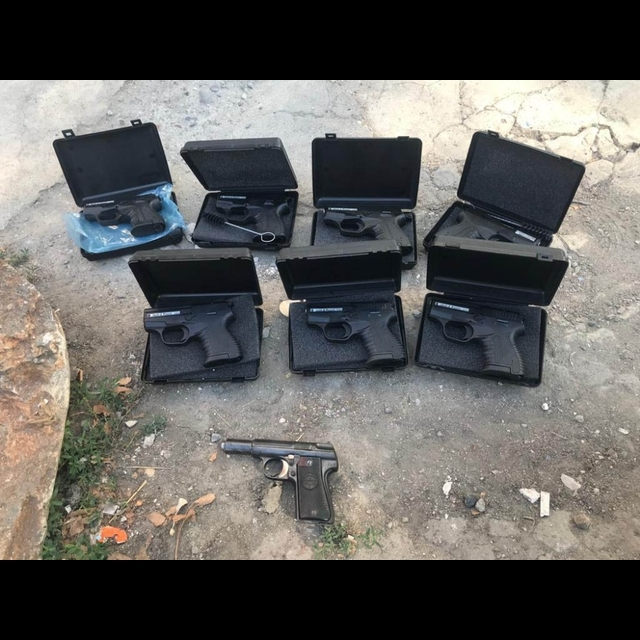SILAH: (215, 428, 343, 528), (424, 294, 534, 380), (138, 303, 245, 366), (308, 303, 407, 371), (218, 190, 291, 243), (79, 193, 164, 233)
